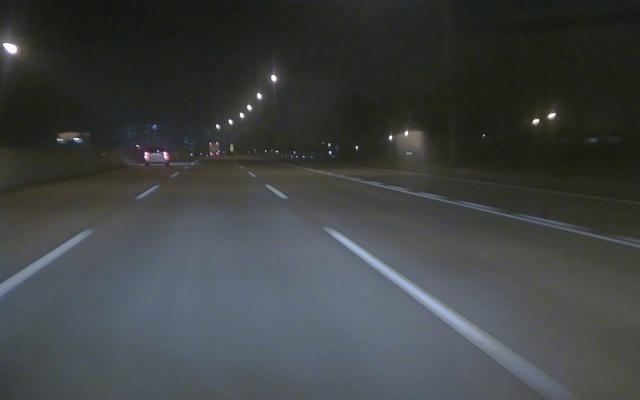lane: (265, 182, 578, 399), (336, 171, 640, 250), (1, 186, 156, 296)
